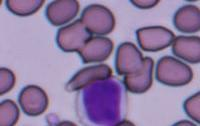L: (75, 76, 127, 126)
